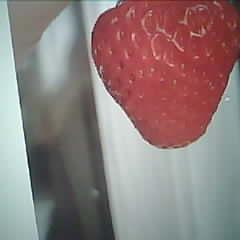straw-ripe: (92, 0, 240, 149)
